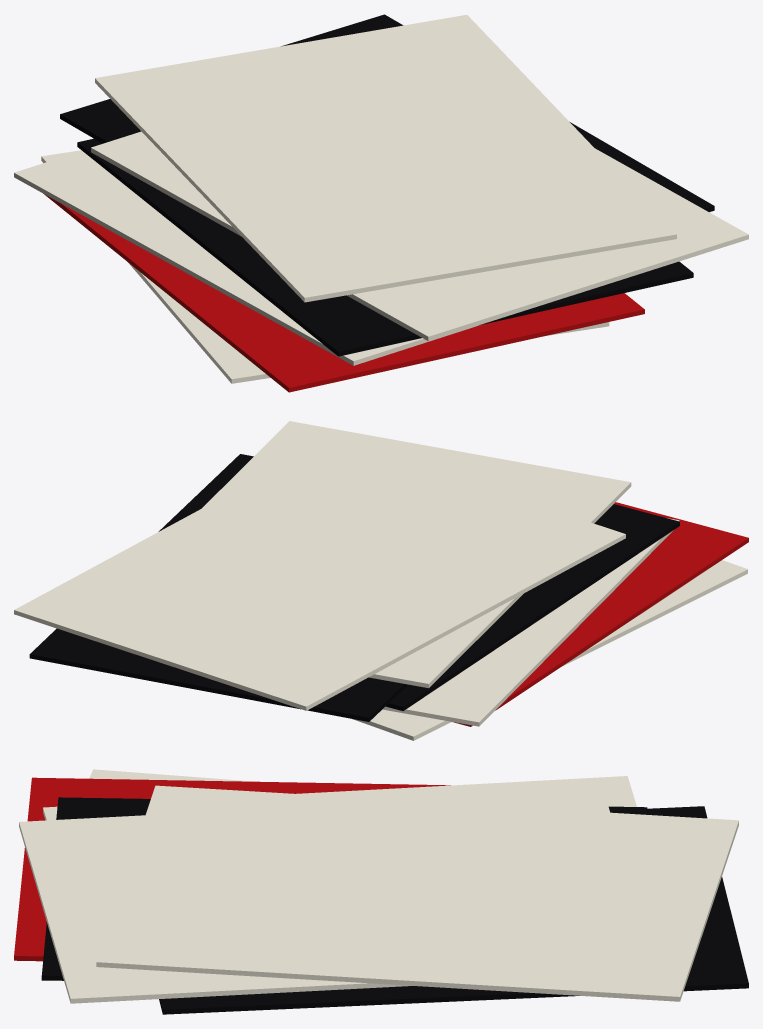
The model's file is Item_OR_Cards_04.glb.
The picture shows the model from 3 angles, top to bottom: view 1: azimuth 30°, elevation 25°; view 2: azimuth 150°, elevation 25°; view 3: azimuth 270°, elevation 25°; orthographic projection. The views are drawn at different scales.
Visible parts, largest first — view 1: Item_OR_Cards_04; view 2: Item_OR_Cards_04; view 3: Item_OR_Cards_04.
Boxes of the visible parts, bbox=[...] form: Item_OR_Cards_04: bbox=[14, 14, 748, 392]; Item_OR_Cards_04: bbox=[14, 421, 748, 740]; Item_OR_Cards_04: bbox=[14, 769, 748, 1014].
Bounding box in the file's own units: 0.0935 × 0.0068 × 0.1097.
